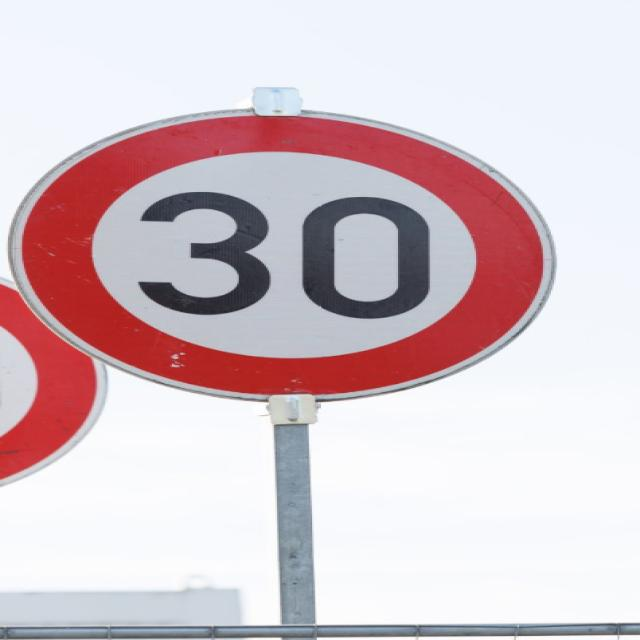Speed limit 30: (9, 106, 560, 404)
